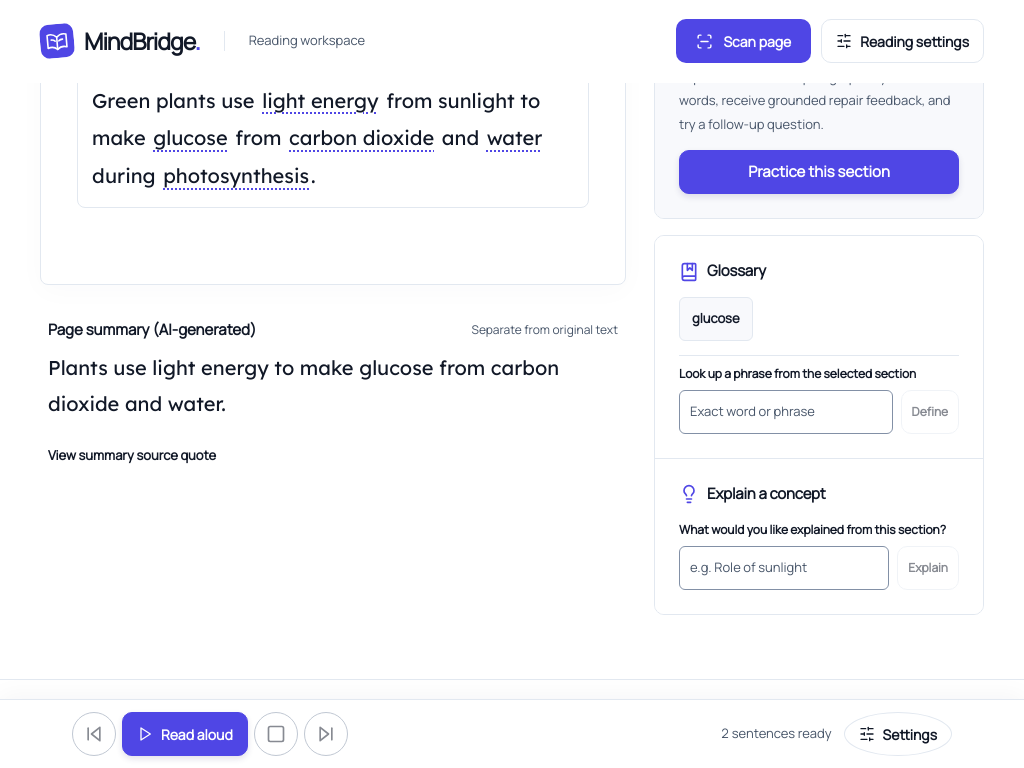
Glossary, Simplify, and SourceLens › opens initial glossary entry without calling defineTerm
The image size is (1024, 768).
(page scrolled)
Click the button "glucose" below "Glossary".
click(716, 319)  # box x1=679 y1=297 x2=752 y2=341
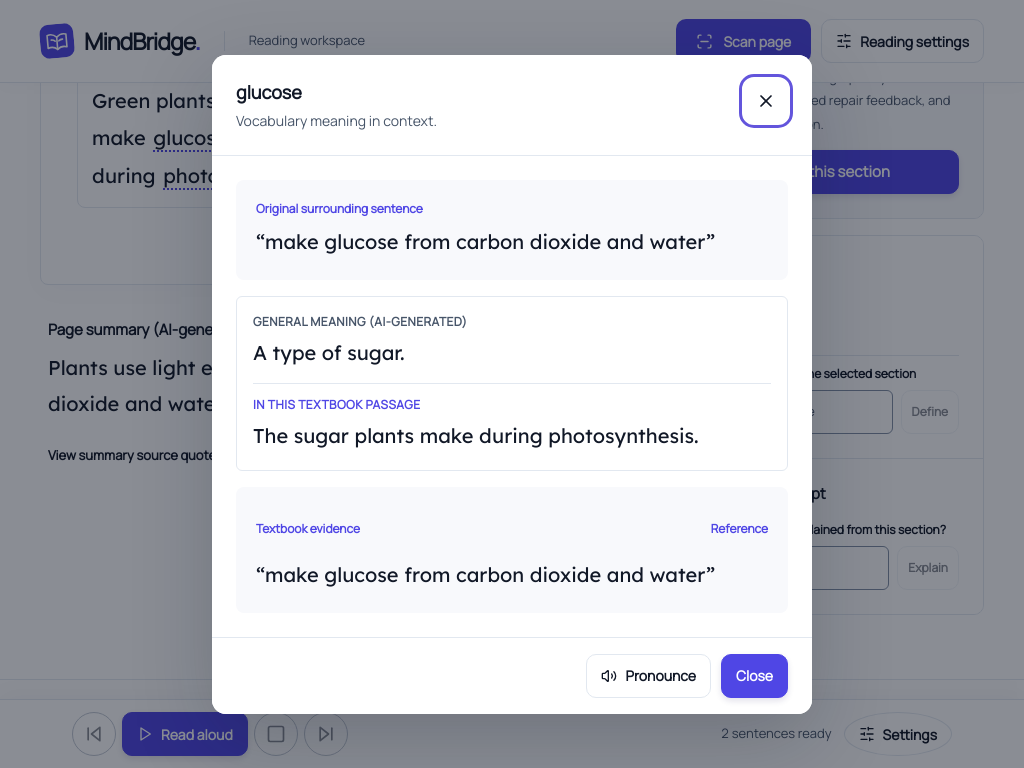
Result: the text "A type of sugar." is shown at x1=253 y1=340 x2=405 y2=364
